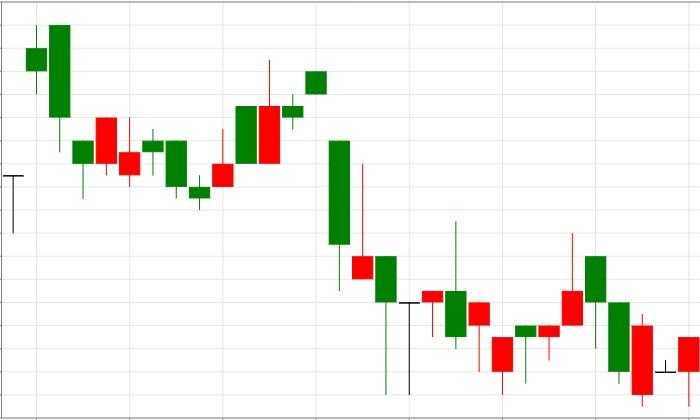morning_star_rise: (26, 24, 233, 210)
